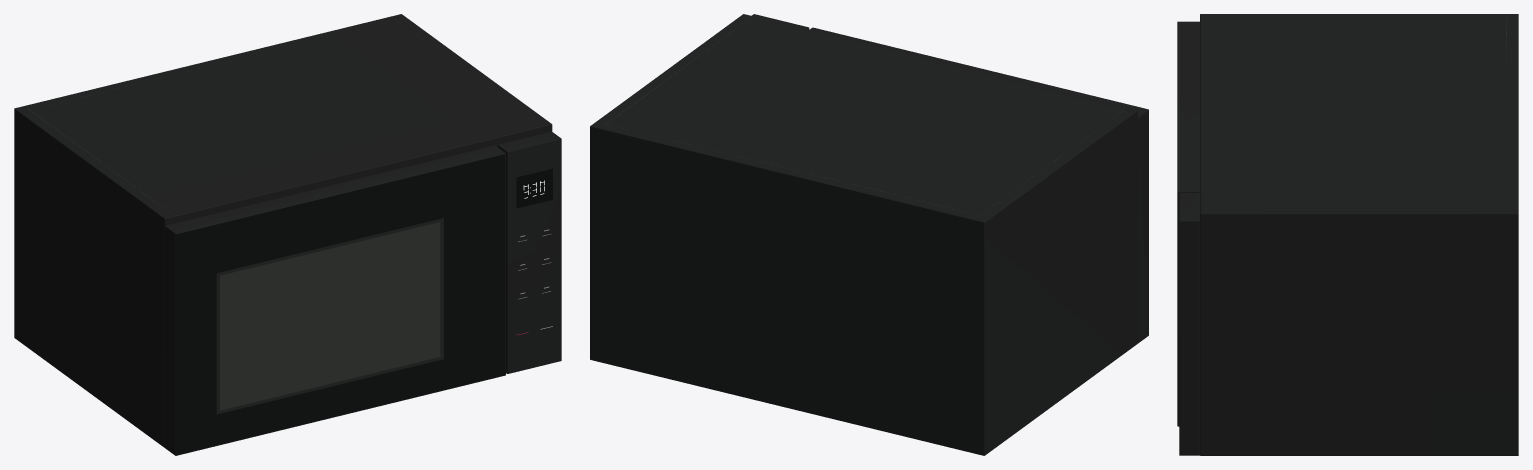
File: MW20CDN.glb
The picture shows the model from 3 angles, left to right: view 1: azimuth 30°, elevation 25°; view 2: azimuth 150°, elevation 25°; view 3: azimuth 270°, elevation 25°; orthographic projection. The views are drawn at different scales.
Visible parts, largest first — view 1: BodyShell, FullDoorGlass, WindowMesh, ControlPanel, DoorBody, WindowRim, ControlDisplay; view 2: BodyShell, DoorBody; view 3: BodyShell, ControlPanel, DoorBody.
Part boxes in pixels (box(x1,y1,x2,y2)): BodyShell: box(14, 14, 552, 447); FullDoorGlass: box(176, 154, 505, 454); WindowMesh: box(220, 222, 440, 410); ControlPanel: box(497, 131, 561, 373); DoorBody: box(165, 145, 505, 455); WindowRim: box(216, 218, 443, 414); ControlDisplay: box(516, 168, 552, 208); BodyShell: box(590, 14, 1137, 455); DoorBody: box(809, 27, 1148, 343); BodyShell: box(1200, 14, 1518, 455); ControlPanel: box(1179, 193, 1199, 455); DoorBody: box(1177, 21, 1199, 426).
Bounding box in the file's own units: 0.454 × 0.261 × 0.328.
12 materials, 1 textured.
